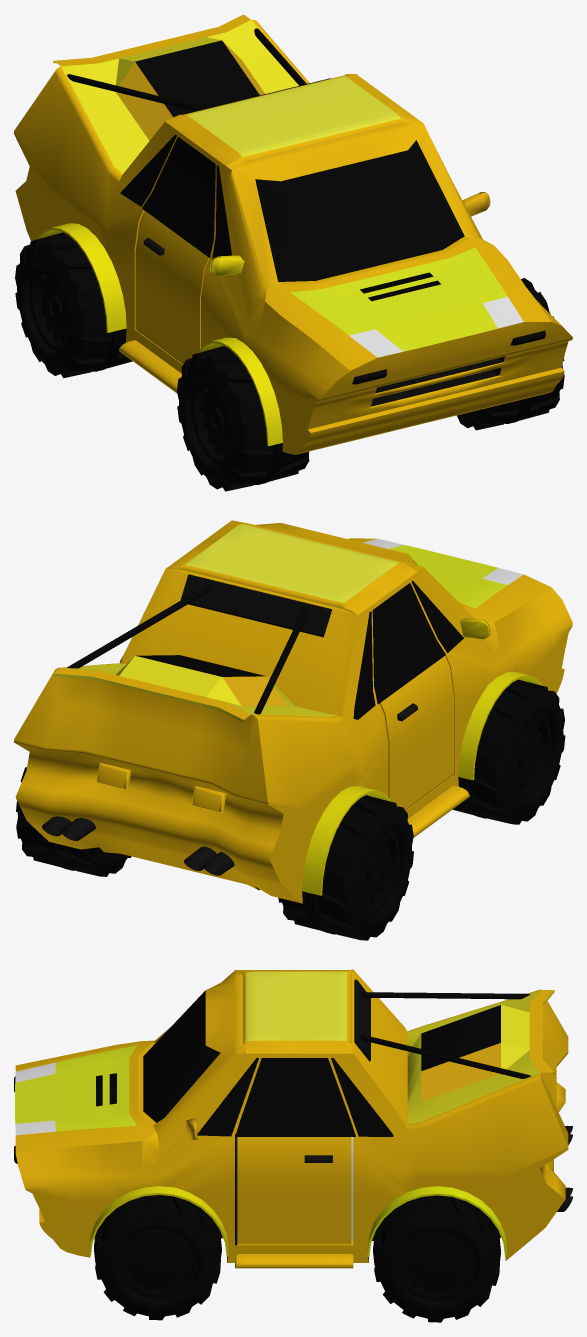
The model's file is Car 2.fbx.
The picture shows the model from 3 angles, top to bottom: view 1: azimuth 30°, elevation 25°; view 2: azimuth 150°, elevation 25°; view 3: azimuth 270°, elevation 25°; orthographic projection. The views are drawn at different scales.
Visible parts, largest first — view 1: Body car 2, Cylinder.007, Cylinder.006, Cube.008, wadah ban.002, Cylinder, wadah ban.001, Cube.006, Cube, Cube.007, Cube.010; view 2: Body car 2, Cylinder.006, Cylinder.007, Cube.008, Cube.011, Cylinder.005, wadah ban.002, wadah ban.001, Cube.006, Cube.012, Cube.007, Cube (+2 smaller); view 3: Body car 2, Cylinder.005, Cylinder, Cube.003, Cube.005, wadah ban.003, Cube.004, wadah ban, Cube.012, Cube, Cube.011.
Part boxes in pixels (bbox=[...]): Body car 2: bbox=[14, 14, 572, 454]; Cylinder.007: bbox=[177, 346, 309, 491]; Cylinder.006: bbox=[15, 232, 132, 378]; Cube.008: bbox=[142, 137, 215, 257]; wadah ban.002: bbox=[37, 223, 126, 332]; Cylinder: bbox=[457, 278, 564, 430]; wadah ban.001: bbox=[197, 337, 282, 446]; Cube.006: bbox=[120, 134, 176, 206]; Cube: bbox=[67, 74, 207, 111]; Cube.007: bbox=[212, 165, 231, 258]; Cube.010: bbox=[209, 255, 244, 275]; Body car 2: bbox=[14, 520, 572, 903]; Cylinder.006: bbox=[278, 795, 413, 940]; Cylinder.007: bbox=[452, 679, 565, 824]; Cube.008: bbox=[372, 583, 445, 704]; Cube.011: bbox=[180, 574, 332, 637]; Cylinder.005: bbox=[16, 767, 131, 876]; wadah ban.002: bbox=[302, 786, 391, 895]; wadah ban.001: bbox=[458, 671, 543, 780]; Cube.006: bbox=[353, 611, 375, 719]; Cube.012: bbox=[67, 584, 211, 668]; Cube.007: bbox=[411, 580, 463, 652]; Cube: bbox=[254, 608, 308, 714]; Body car 2: bbox=[14, 969, 568, 1268]; Cylinder.005: bbox=[373, 1195, 500, 1322]; Cylinder: bbox=[94, 1195, 221, 1320]; Cube.003: bbox=[235, 1058, 355, 1136]; Cube.005: bbox=[331, 1058, 393, 1136]; wadah ban.003: bbox=[367, 1186, 507, 1256]; Cube.004: bbox=[197, 1058, 258, 1136]; wadah ban: bbox=[88, 1186, 228, 1256]; Cube.012: bbox=[359, 1034, 530, 1078]; Cube: bbox=[359, 992, 530, 999]; Cube.011: bbox=[354, 979, 370, 1061].
Size of the model in its own units: 696 by 541 by 1112.
